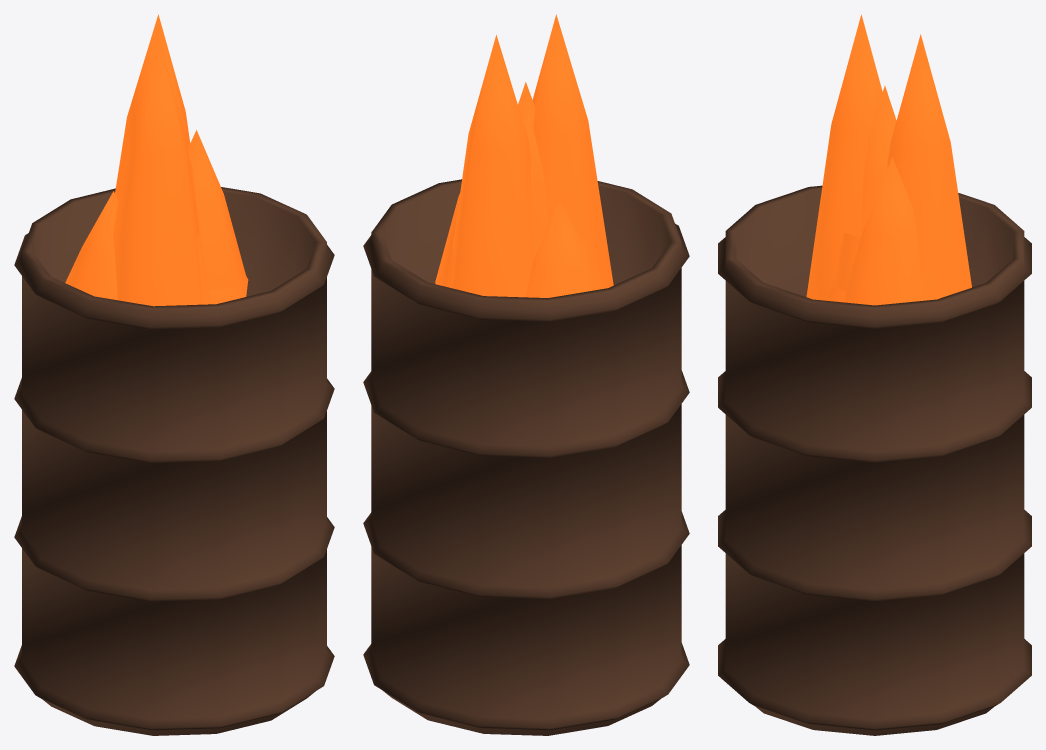
Rendered from SM_barrel.glb.
The picture shows the model from 3 angles, left to right: view 1: azimuth 30°, elevation 25°; view 2: azimuth 150°, elevation 25°; view 3: azimuth 270°, elevation 25°; orthographic projection.
Parts seen in each view (by area): view 1: SM_barrel; view 2: SM_barrel; view 3: SM_barrel.
Boxes of the visible parts, <box> form: SM_barrel: <box>14,14,334,735</box>; SM_barrel: <box>363,14,689,735</box>; SM_barrel: <box>718,14,1031,735</box>.
Size of the model in its own units: 0.61 by 1.36 by 0.5947.
